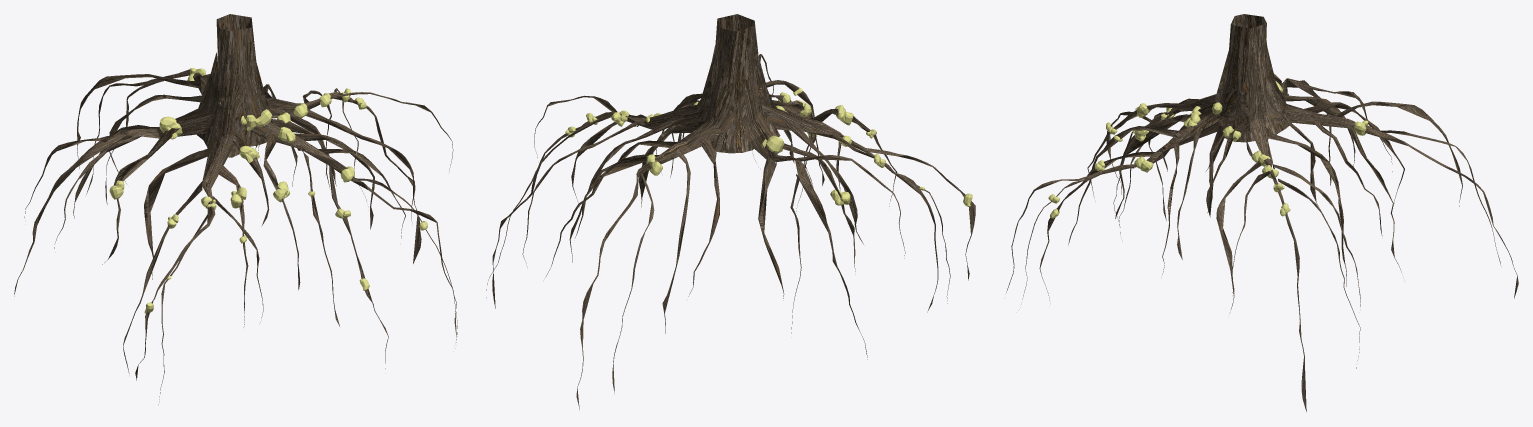
Rendered from roots.fbx.
The picture shows the model from 3 angles, left to right: view 1: azimuth 30°, elevation 25°; view 2: azimuth 150°, elevation 25°; view 3: azimuth 270°, elevation 25°; orthographic projection. The views are drawn at different scales.
Parts seen in each view (by area): view 1: polySurface7, pSphere27; view 2: polySurface7, pSphere27; view 3: polySurface7, pSphere27.
Boxes of the visible parts, x1,y1,x2,y2 form: polySurface7: [14, 14, 457, 404]; pSphere27: [109, 68, 427, 313]; polySurface7: [486, 14, 975, 409]; pSphere27: [565, 88, 972, 206]; polySurface7: [1006, 14, 1518, 411]; pSphere27: [1048, 81, 1368, 218].
Bounding box in the file's own units: 185 × 143 × 224.
